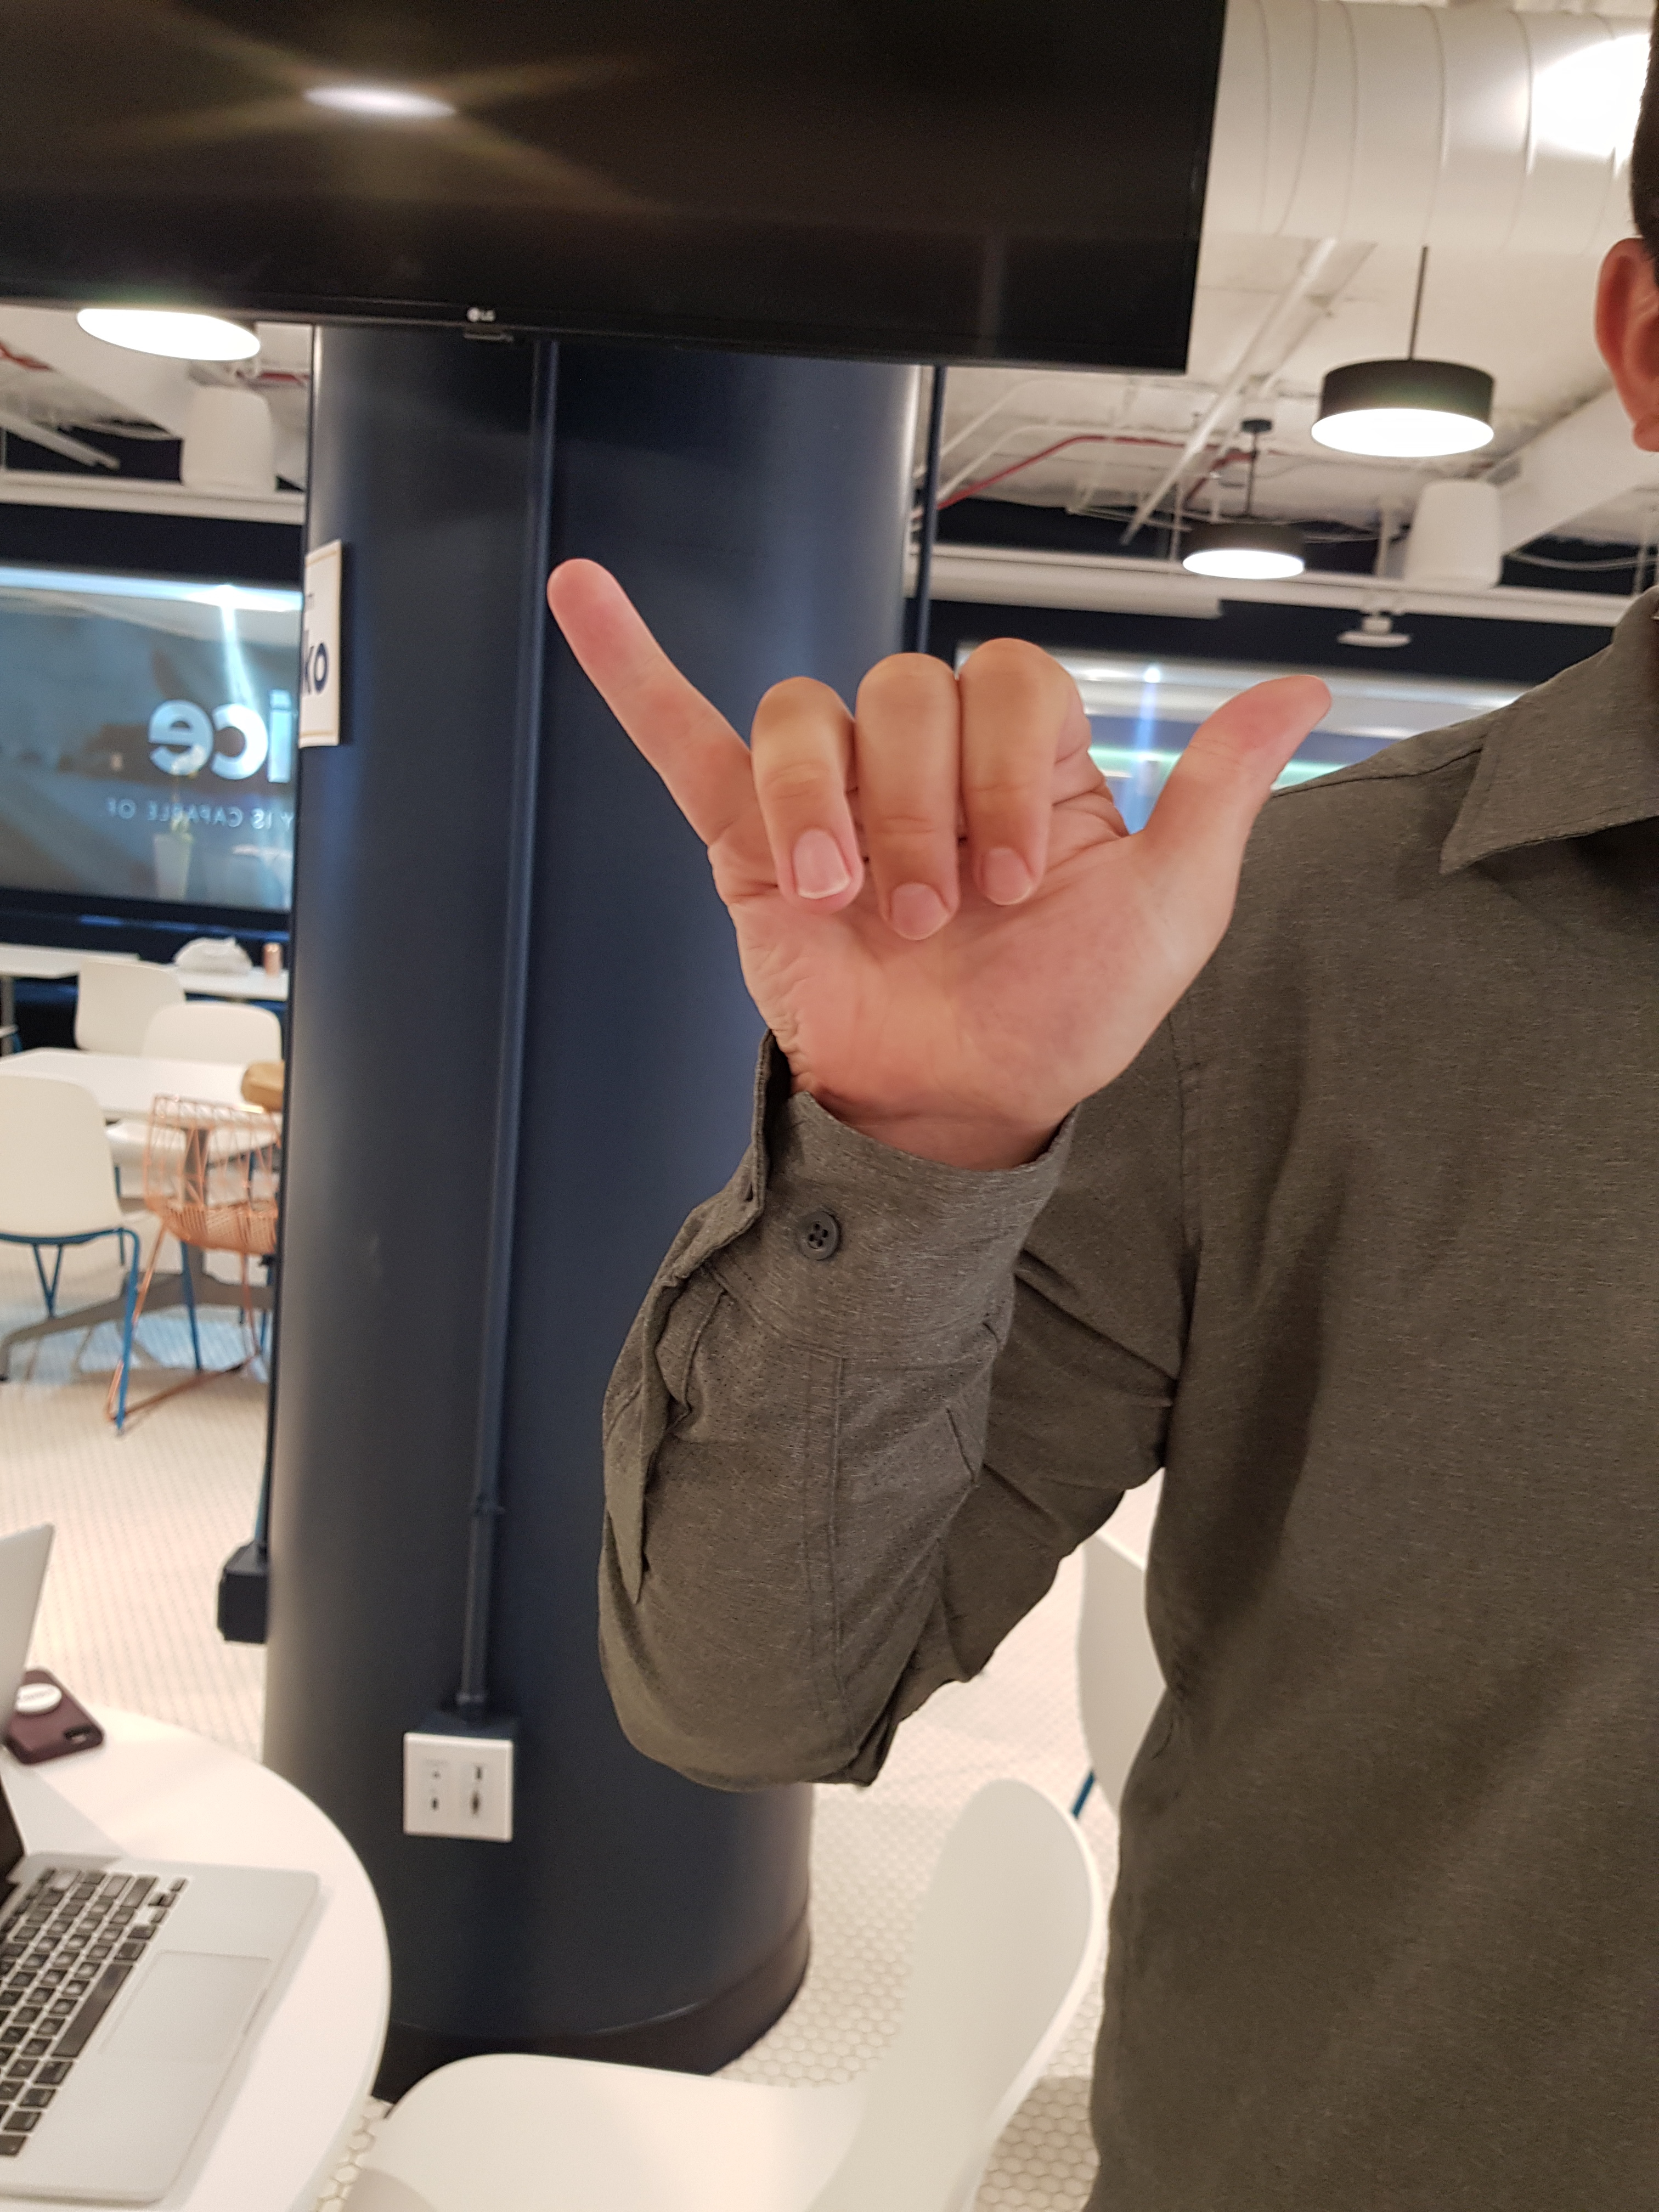y: (514, 516, 1384, 1151)
